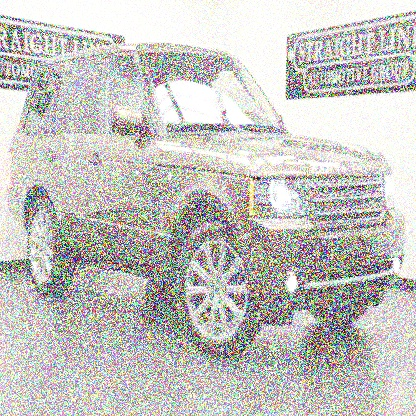Vehicle: (6, 42, 407, 359)
